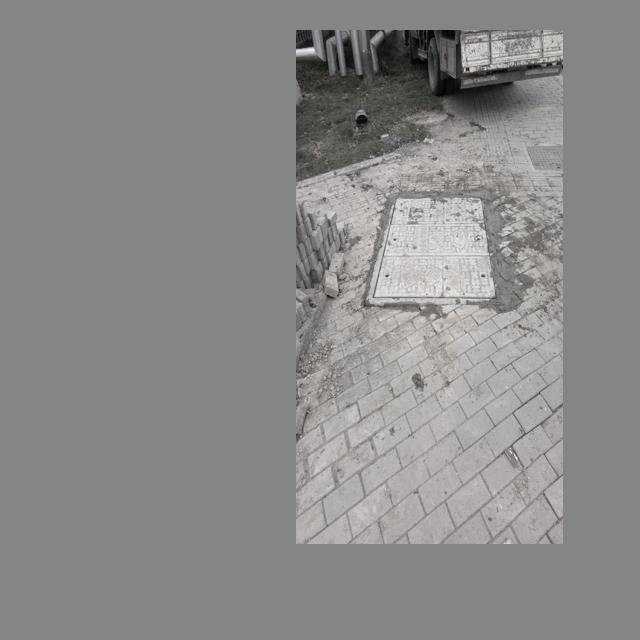good: (367, 193, 499, 304)
